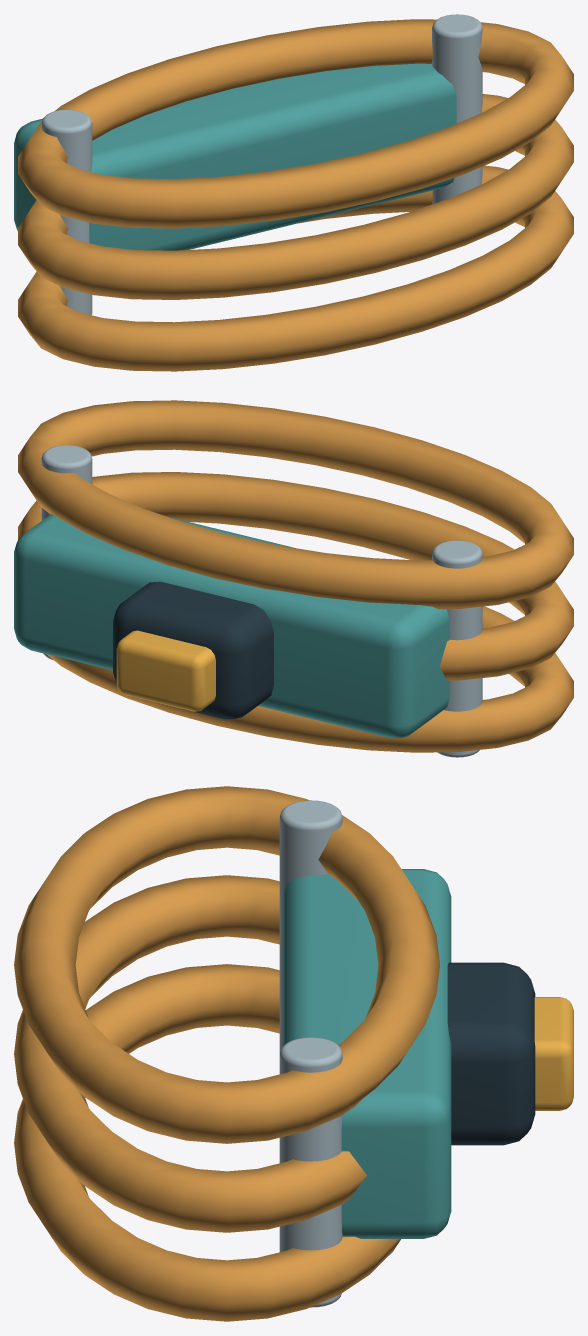
Rendered from part_rubber_band.glb.
3 views of the same model, one above another, from view 1: azimuth 30°, elevation 25°; view 2: azimuth 150°, elevation 25°; view 3: azimuth 270°, elevation 25° (orthographic). The views are drawn at different scales.
Parts seen in each view (by area): view 1: Elastic amber loop.002, Bumper bracket, Elastic amber loop, Elastic amber loop.001, Band fixing pin.001, Band fixing pin; view 2: Elastic amber loop.002, Bumper bracket, Elastic amber loop.001, Elastic amber loop, Universal rubber mounting pad.003, Snap-in brass tongue.003, Band fixing pin, Band fixing pin.001; view 3: Elastic amber loop.002, Elastic amber loop.001, Elastic amber loop, Bumper bracket, Universal rubber mounting pad.003, Band fixing pin.001, Band fixing pin, Snap-in brass tongue.003.
Boxes of the visible parts, <box> form: Elastic amber loop.002: <box>18,19,573,228</box>; Bumper bracket: <box>14,63,456,250</box>; Elastic amber loop: <box>18,165,573,371</box>; Elastic amber loop.001: <box>18,94,573,299</box>; Band fixing pin.001: <box>432,14,482,204</box>; Band fixing pin: <box>41,109,92,315</box>; Elastic amber loop.002: <box>18,400,573,609</box>; Bumper bracket: <box>14,514,449,738</box>; Elastic amber loop.001: <box>18,472,573,680</box>; Elastic amber loop: <box>47,606,573,752</box>; Universal rubber mounting pad.003: <box>113,581,273,719</box>; Snap-in brass tongue.003: <box>116,630,215,711</box>; Band fixing pin: <box>432,540,482,757</box>; Band fixing pin.001: <box>41,445,92,660</box>; Elastic amber loop.002: <box>14,786,439,1143</box>; Elastic amber loop.001: <box>14,875,366,1232</box>; Elastic amber loop: <box>14,964,400,1321</box>; Bumper bracket: <box>283,869,451,1238</box>; Universal rubber mounting pad.003: <box>447,962,535,1145</box>; Band fixing pin.001: <box>279,1037,342,1307</box>; Band fixing pin: <box>279,800,342,1053</box>; Snap-in brass tongue.003: <box>534,997,573,1110</box>.
Size of the model in its own units: 0.0218 by 0.0078 by 0.016.
